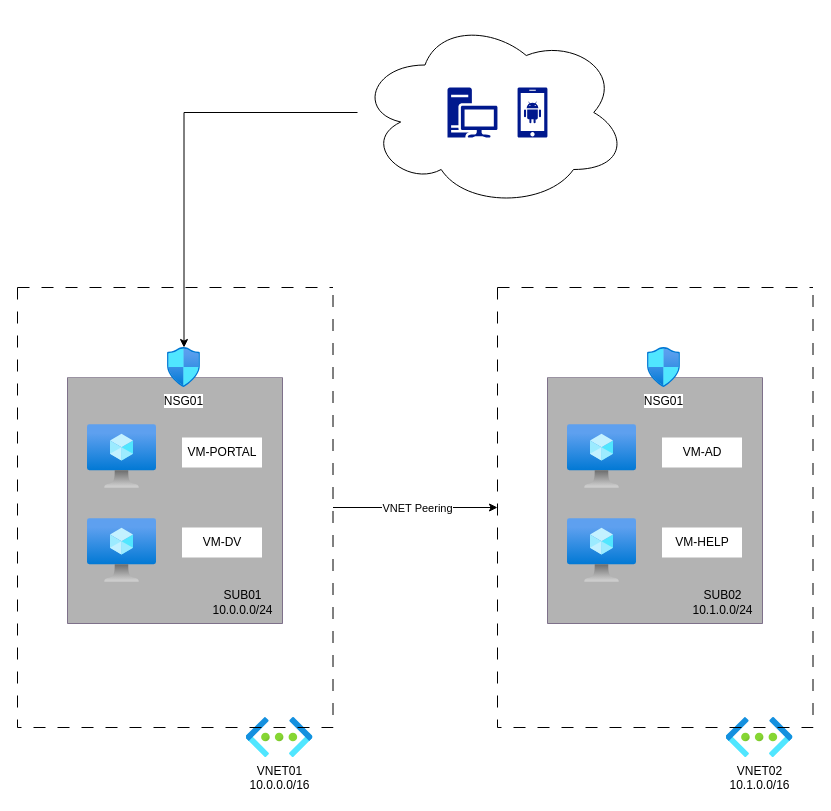
The diagram is 831 pixels wide and 811 high, and some of its shapes have lost their labels. Here are the shapes that lost their labels. From the top down, the box of each, then its label:
(16, 286, 333, 728): EAST US
(496, 286, 813, 728): CENTRAL US
